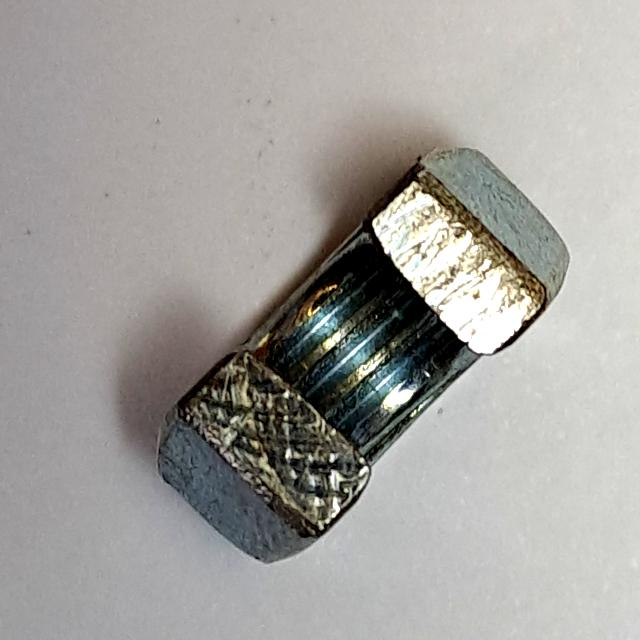Side-Fracture: (143, 132, 581, 582)
